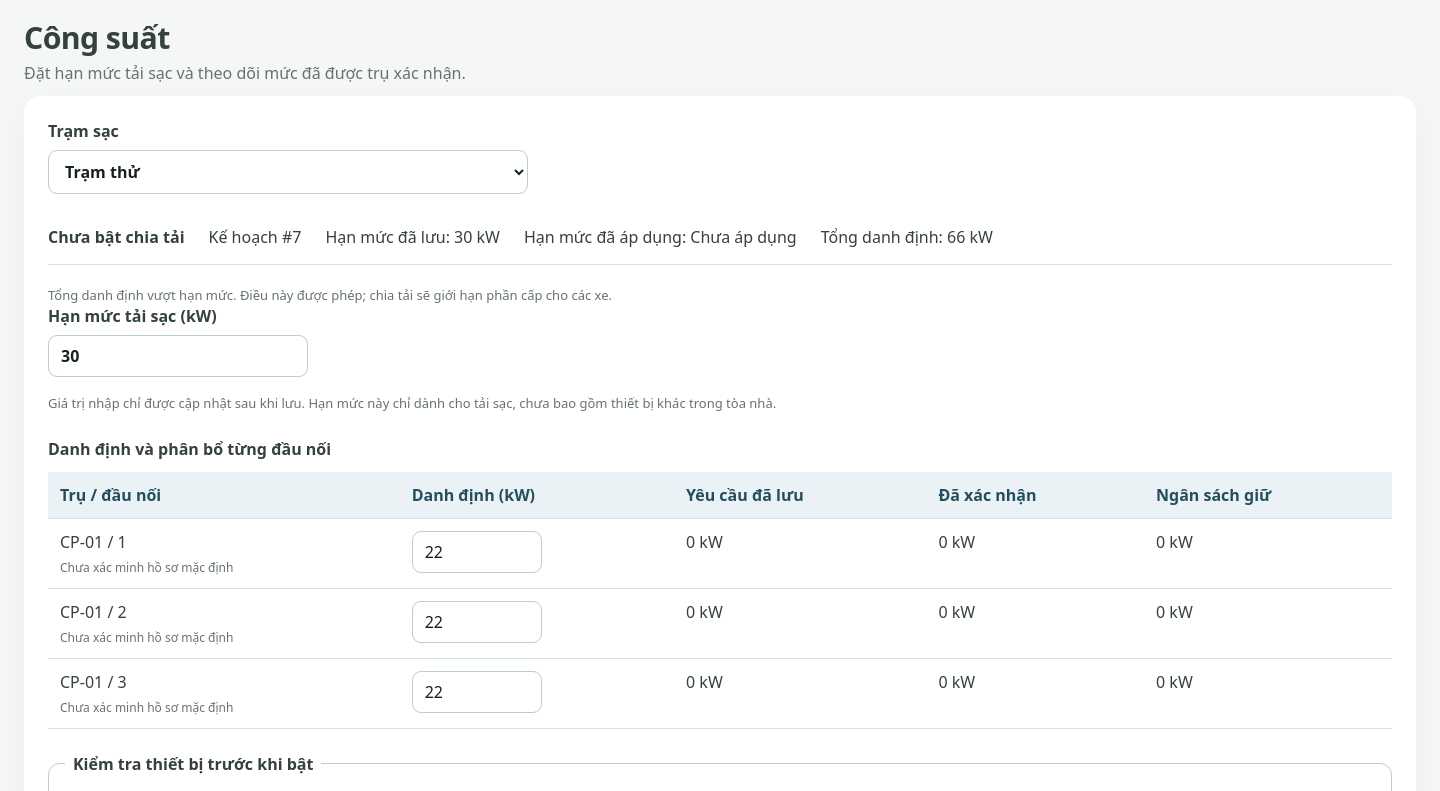
Test: ignores a poll started before a save and displays saved requests separately
The image size is (1440, 791).
Check: the text "Hạn mức đã lưu: 30 kW" is shown, box [325,226,500,248]
Replace the text in the number field labelled "Hạn mức tải sạc (kW)" with "15". click: (178,356)
box: [48,335,308,377]
(page scrolled)
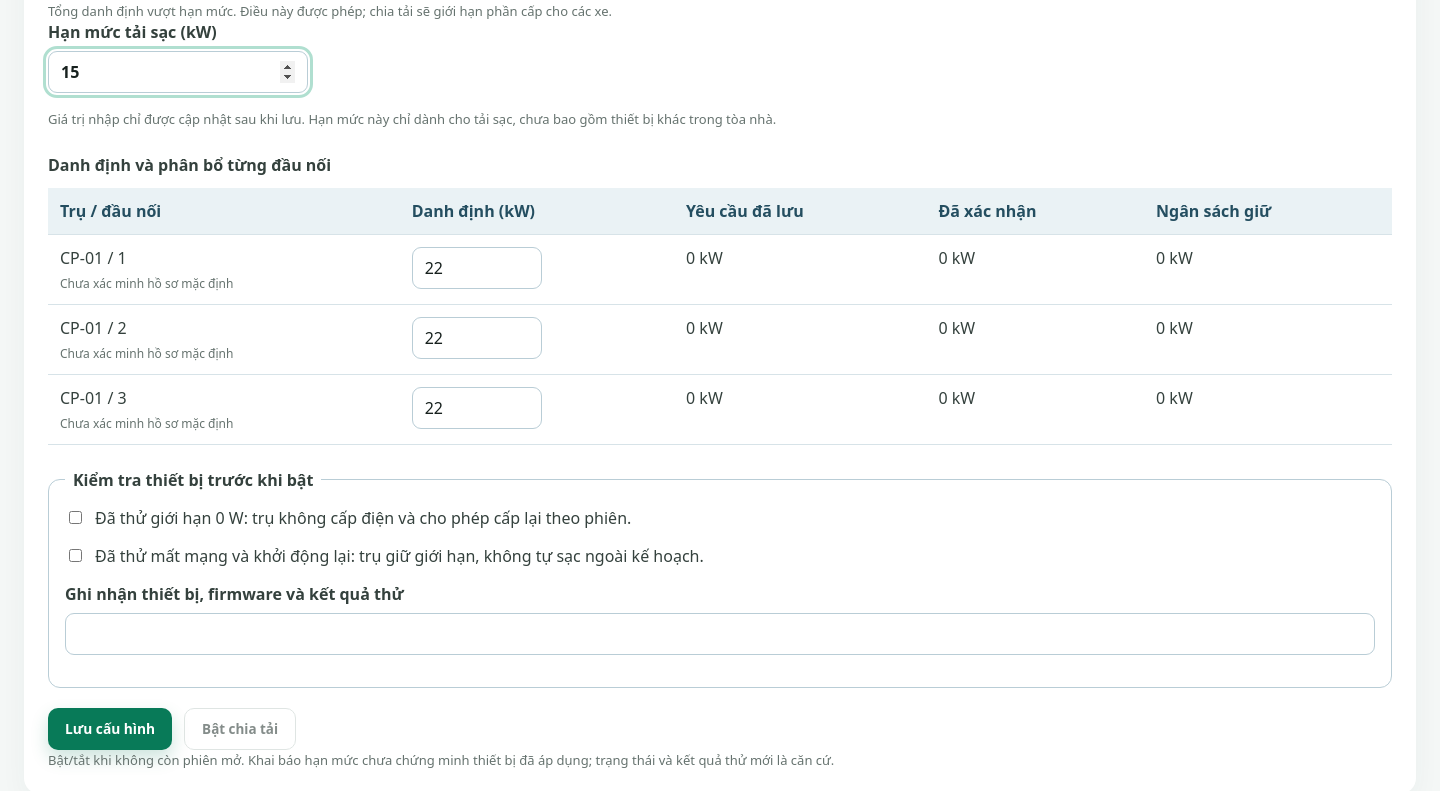
Click the button "Lưu cấu hình". click: (110,729)
box: [48,708,172,750]
(page scrolled)
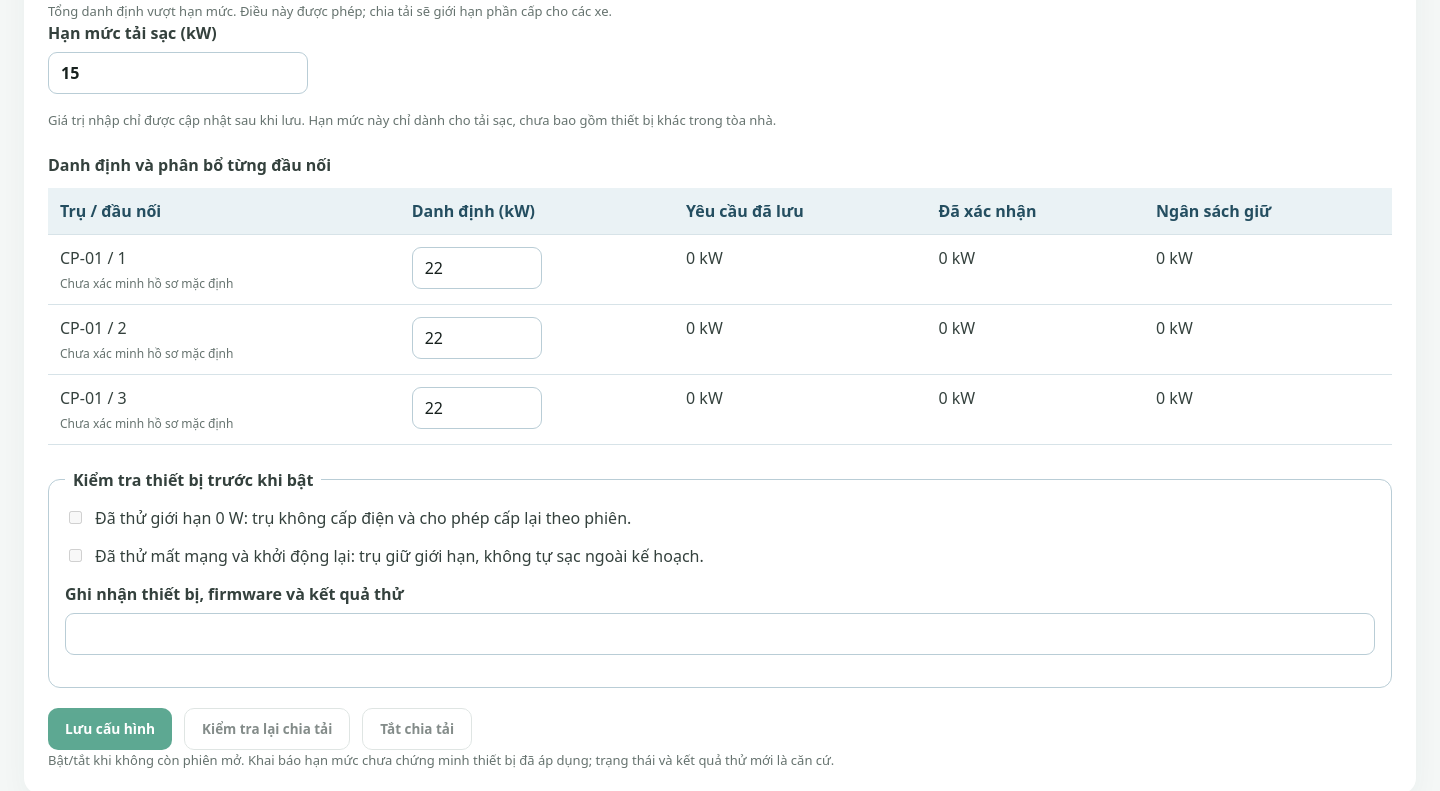
Check: the button "Lưu cấu hình" is disabled, box [48,708,172,750]
